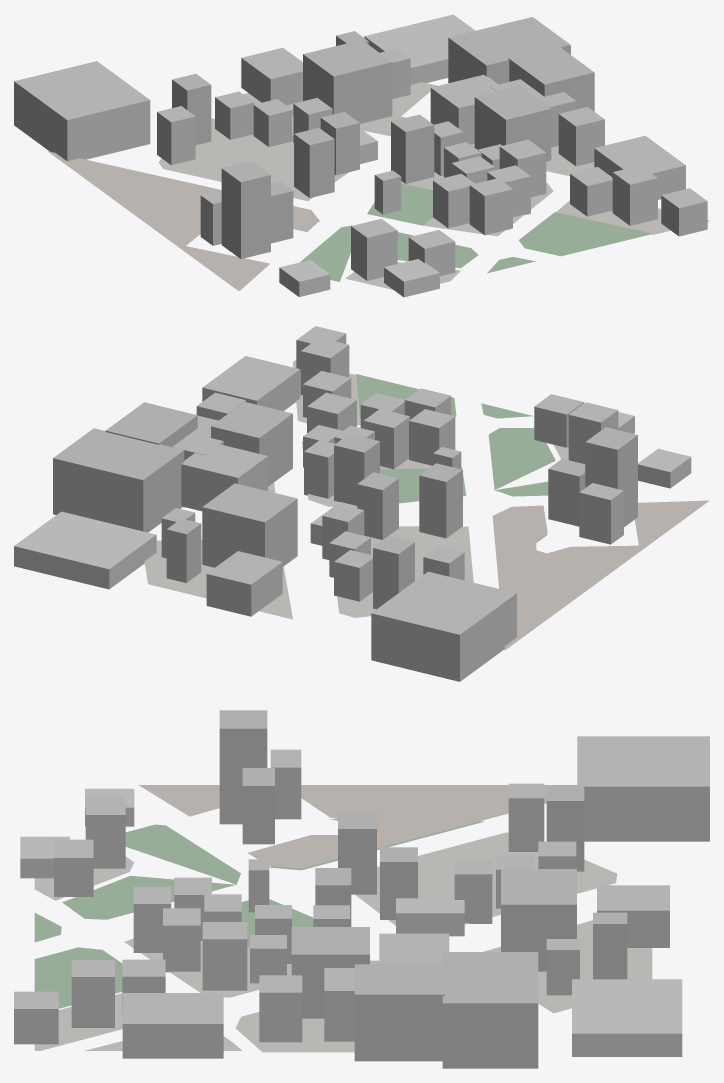
File: 135_86_mid.glb
The picture shows the model from 3 angles, top to bottom: view 1: azimuth 30°, elevation 25°; view 2: azimuth 150°, elevation 25°; view 3: azimuth 270°, elevation 25°; orthographic projection. The views are drawn at different scales.
Bounding box in the file's own units: 529 × 93.6 × 563.
